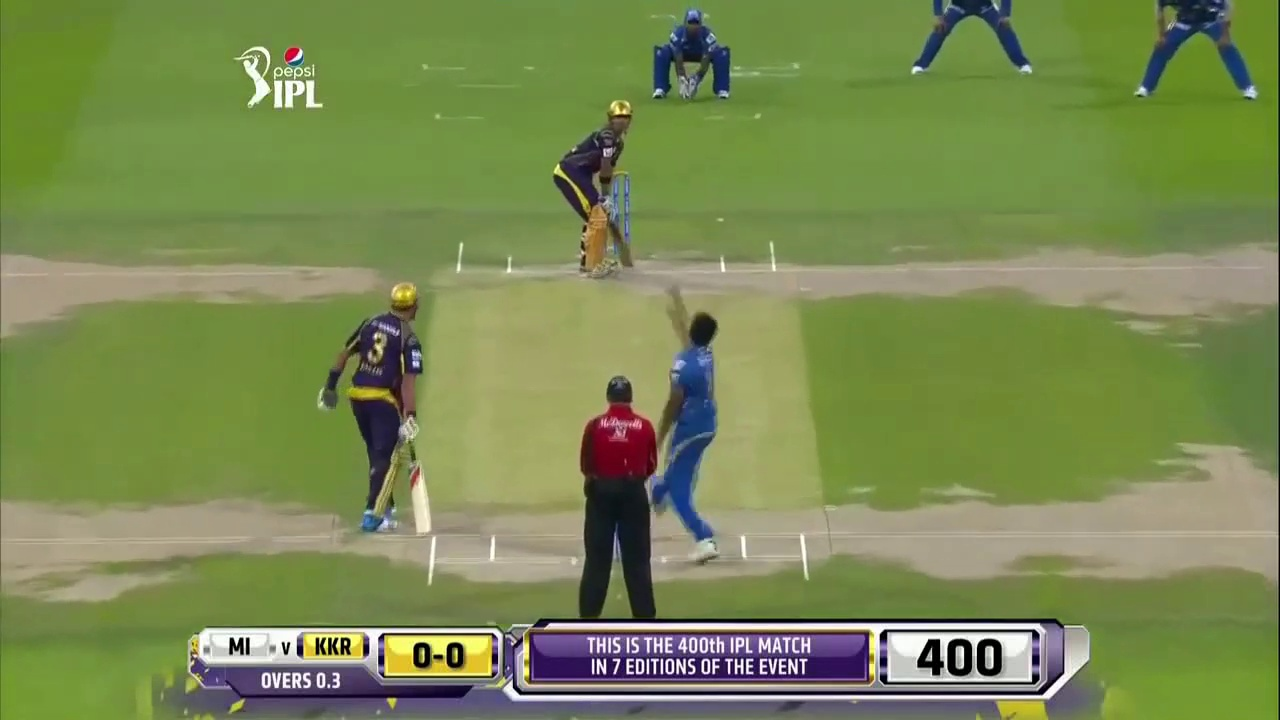bat: (406, 446, 433, 535)
